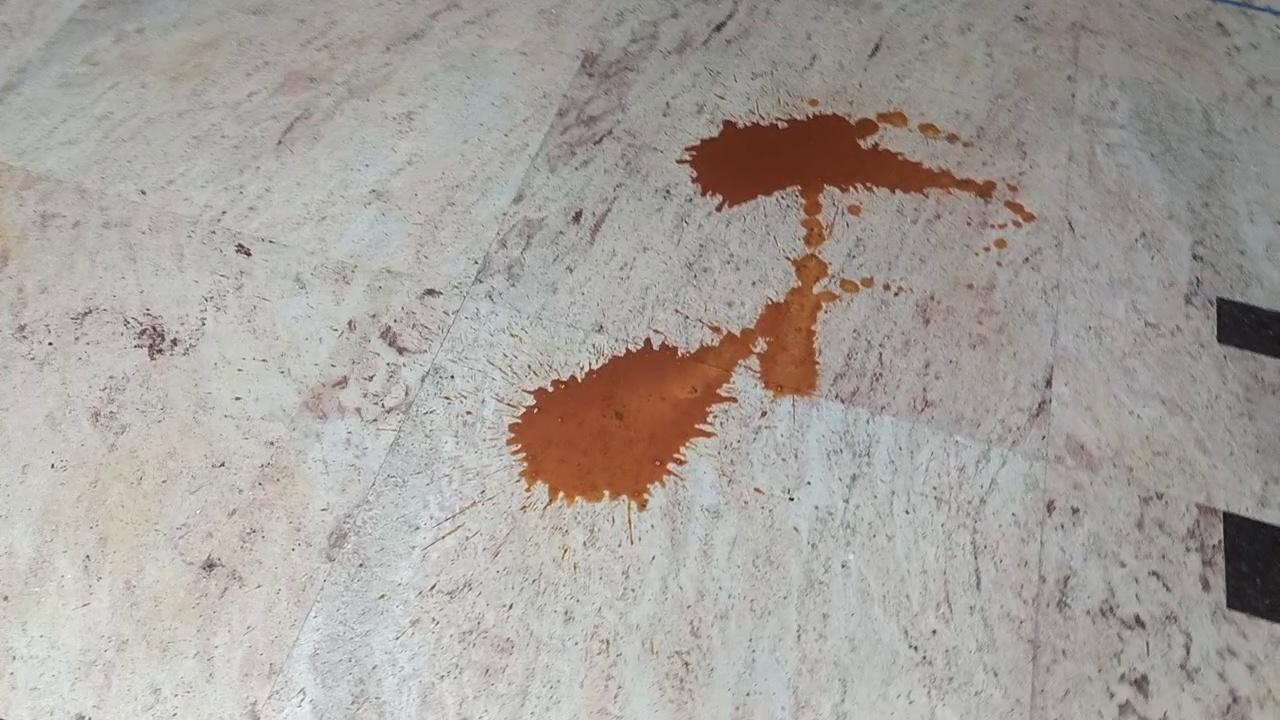dirty_floor: (513, 105, 1042, 533)
